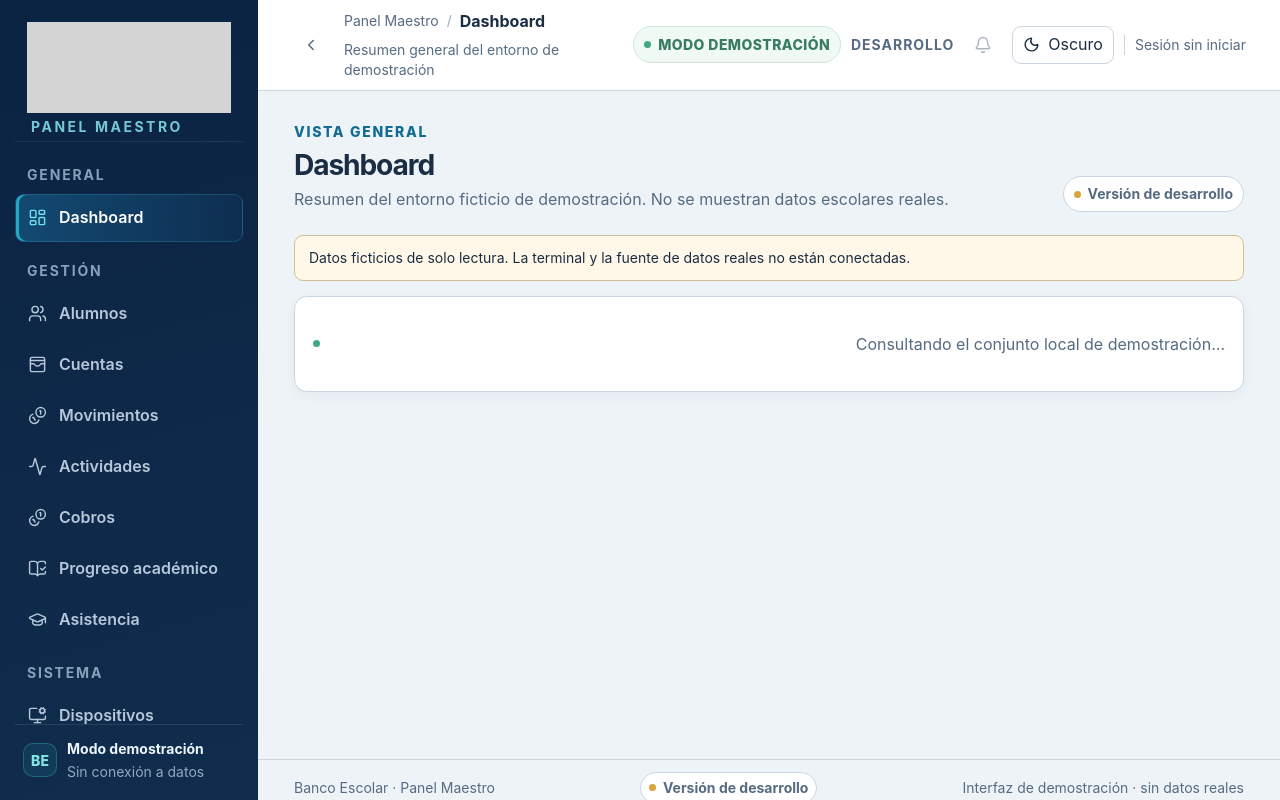
Scenario: Panel Maestro PM.2 › changes the visual theme
The image size is (1280, 800).
Click the button with aria-label "Cambiar a tema oscuro" at (1063, 45), box top-left (1012, 26), bottom-right (1114, 64)
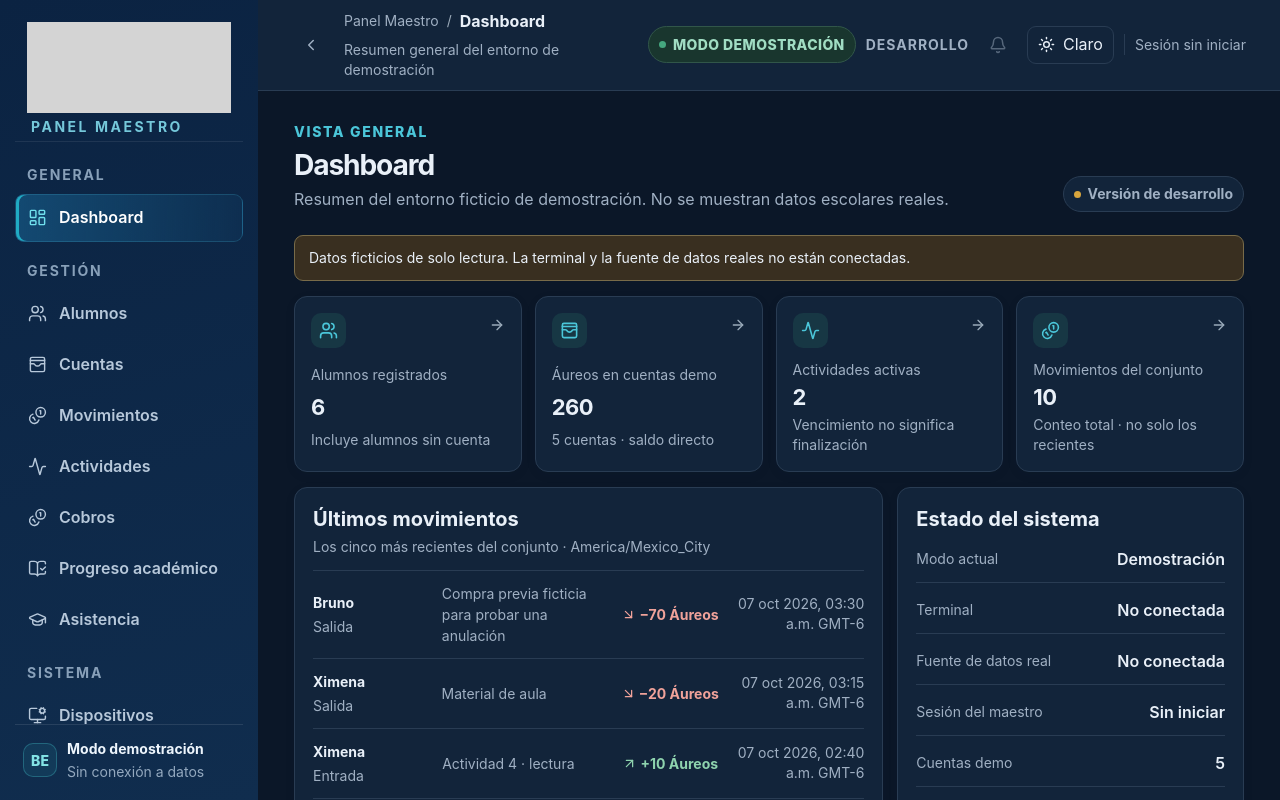
Now the button with aria-label "Cambiar a tema claro" is shown, box top-left (1027, 26), bottom-right (1114, 64)
